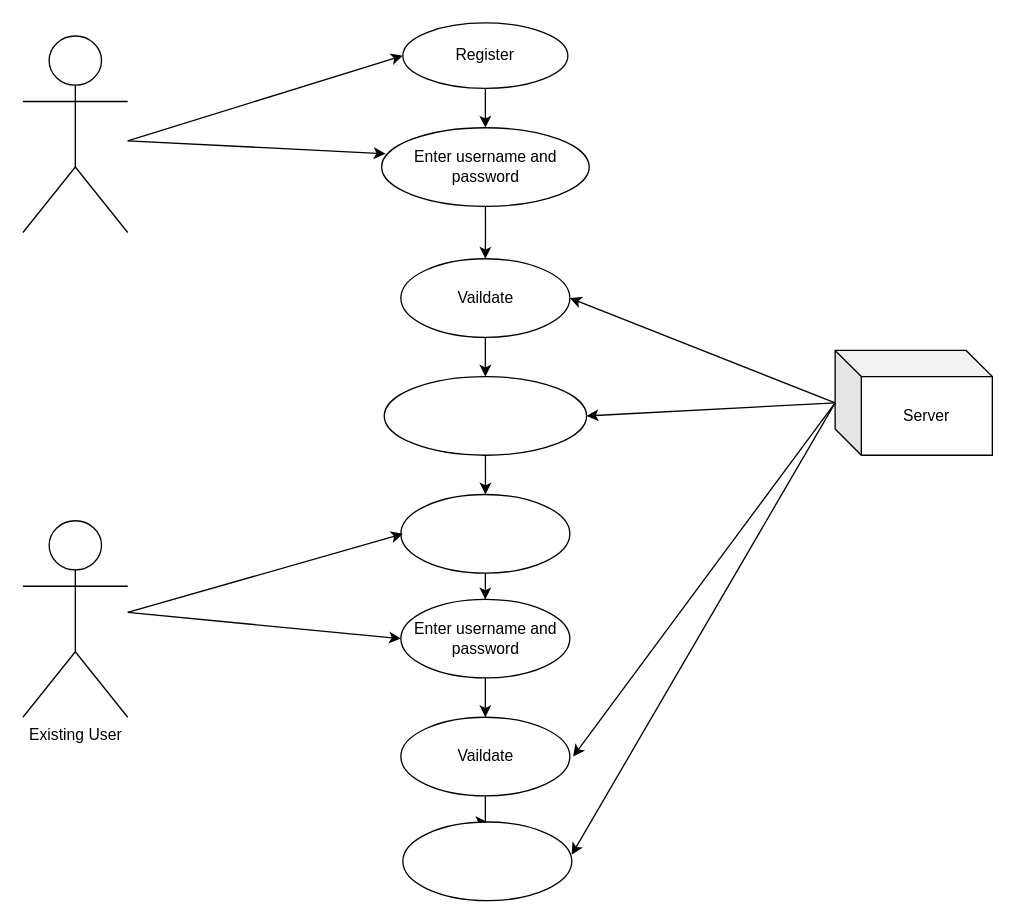
The diagram is 1015 pixels wide and 924 high, and some of its shapes have lost their labels. Each missing label, with the box of its shape:
confirm account creation: (383, 375, 587, 455)
grant user acces to Storage Window: (402, 821, 572, 901)
login: (400, 493, 570, 573)
New User: (22, 35, 128, 233)
